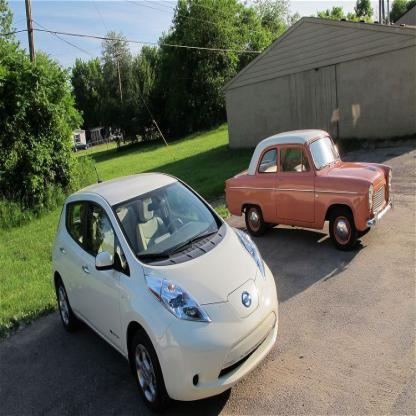Vehicle: (53, 172, 280, 412)
